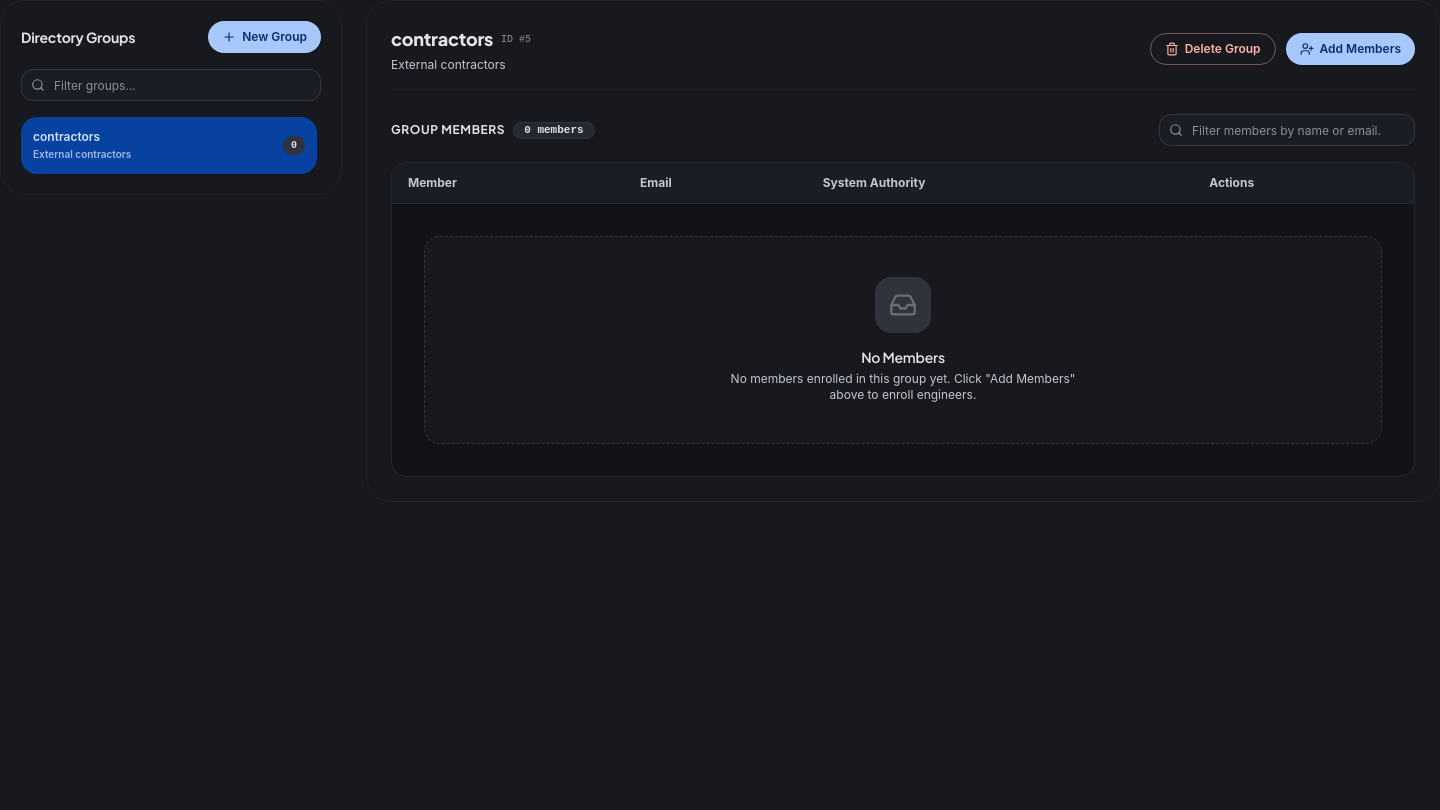
GroupsManagerTab › renders Delete Group button for custom groups and opens ConfirmDialog
Click the button "Delete Group" at point(1213, 49), box [1150,33,1276,65]
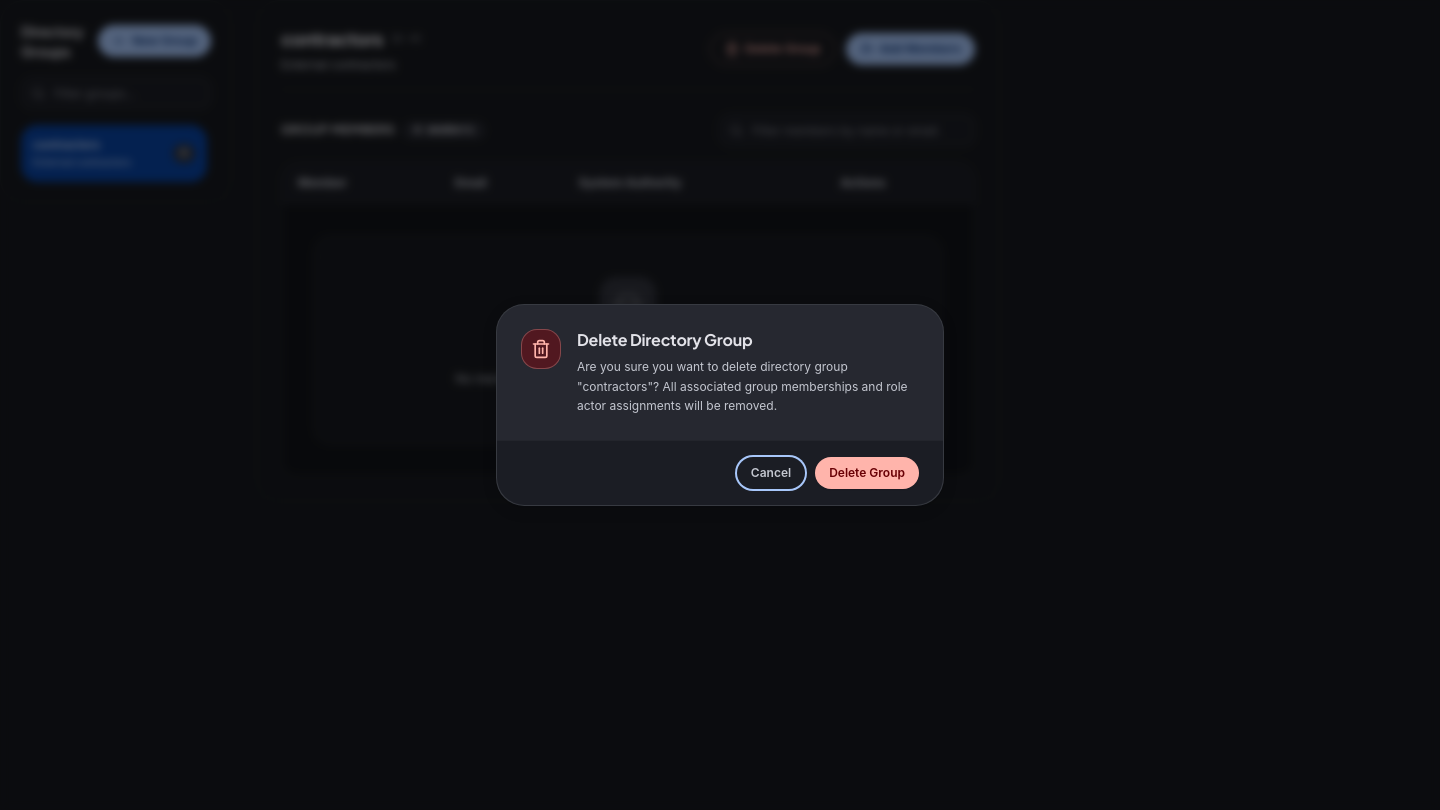
Expected: the text "Are you sure you want to delete directory group \"contractors\"" is shown, [577,359,908,413]
